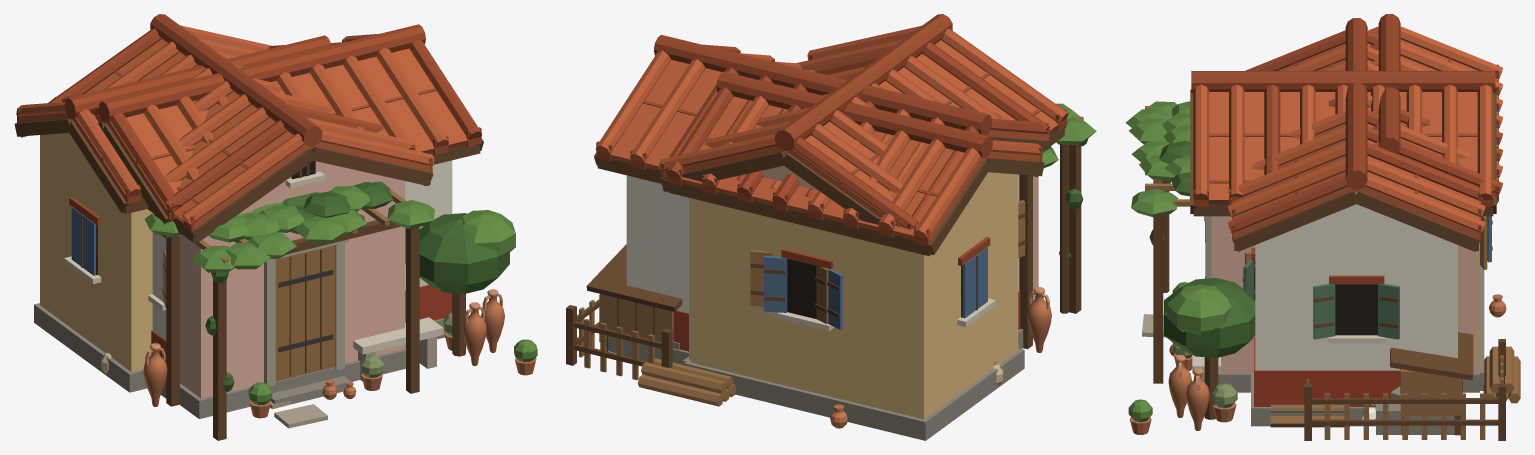
File: Wohnhaus.fbx
3 views of the same model, side by side, from view 1: azimuth 30°, elevation 25°; view 2: azimuth 150°, elevation 25°; view 3: azimuth 270°, elevation 25° (orthographic). The views are drawn at different scales.
Visible parts, largest first — view 1: Wohnhaus_2, Wohnhaus_1, Wohnhaus_0; view 2: Wohnhaus_1, Wohnhaus_2, Wohnhaus_0; view 3: Wohnhaus_0, Wohnhaus_2, Wohnhaus_1.
Part boxes in pixels (x1=…): Wohnhaus_2: x1=48, y1=14, x2=515, y2=418; Wohnhaus_1: x1=14, y1=35, x2=537, y2=440; Wohnhaus_0: x1=93, y1=24, x2=483, y2=428; Wohnhaus_1: x1=608, y1=71, x2=1096, y2=440; Wohnhaus_2: x1=566, y1=14, x2=1068, y2=385; Wohnhaus_0: x1=594, y1=35, x2=1051, y2=428; Wohnhaus_0: x1=1142, y1=18, x2=1520, y2=426; Wohnhaus_2: x1=1164, y1=71, x2=1505, y2=440; Wohnhaus_1: x1=1125, y1=14, x2=1502, y2=434.
Size of the model in its own units: 1.81 by 1.37 by 1.79.
